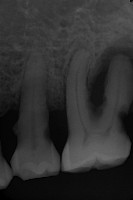Dental Caries: (86, 37, 133, 116)
